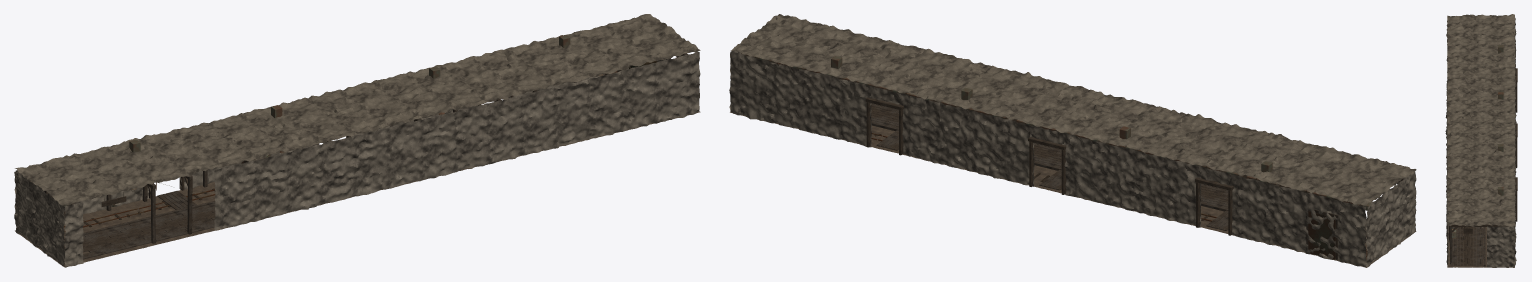
The model's file is env_sanctuary_hallway.gltf.
3 renders of one model, left to right at view 1: azimuth 30°, elevation 25°; view 2: azimuth 150°, elevation 25°; view 3: azimuth 270°, elevation 25°, orthographic. The views are drawn at different scales.
Visible parts, largest first — view 1: hallway_rock_mine_01, hallway_rock_mine_02, hallway_timber_mine_01, hallway_earth_packed_01, hallway_steel_painted_01; view 2: hallway_rock_mine_01, hallway_rock_mine_02, hallway_timber_mine_01, hallway_earth_packed_01, hallway_steel_painted_01, hallway_metal_dark_01; view 3: hallway_rock_mine_02, hallway_timber_mine_01, hallway_rock_mine_01, hallway_earth_packed_01, hallway_steel_painted_01.
Boxes of the visible parts, x1,y1,x2,y2 form: hallway_rock_mine_01: [14, 52, 700, 267]; hallway_rock_mine_02: [15, 14, 700, 205]; hallway_timber_mine_01: [26, 53, 687, 261]; hallway_earth_packed_01: [15, 111, 700, 267]; hallway_steel_painted_01: [30, 35, 617, 206]; hallway_rock_mine_01: [729, 36, 1416, 267]; hallway_rock_mine_02: [730, 14, 1416, 205]; hallway_timber_mine_01: [742, 54, 1404, 259]; hallway_earth_packed_01: [730, 112, 1416, 267]; hallway_steel_painted_01: [741, 53, 1370, 259]; hallway_metal_dark_01: [755, 57, 1367, 259]; hallway_rock_mine_02: [1447, 14, 1514, 226]; hallway_timber_mine_01: [1449, 68, 1517, 266]; hallway_rock_mine_01: [1445, 16, 1516, 267]; hallway_earth_packed_01: [1447, 226, 1514, 267]; hallway_steel_painted_01: [1449, 45, 1503, 239].
Bounding box in the file's own units: 38.37 × 4.16 × 5.55.
Materials: 32 (24 with a texture image).
